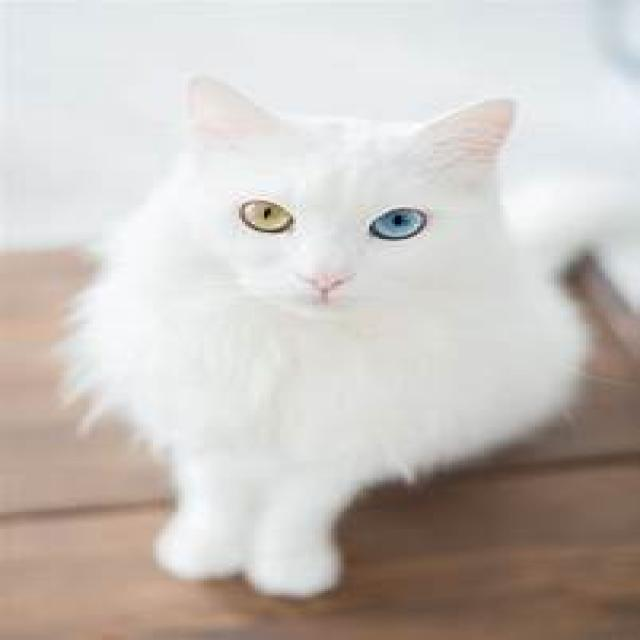KEDI: (36, 80, 611, 599)
